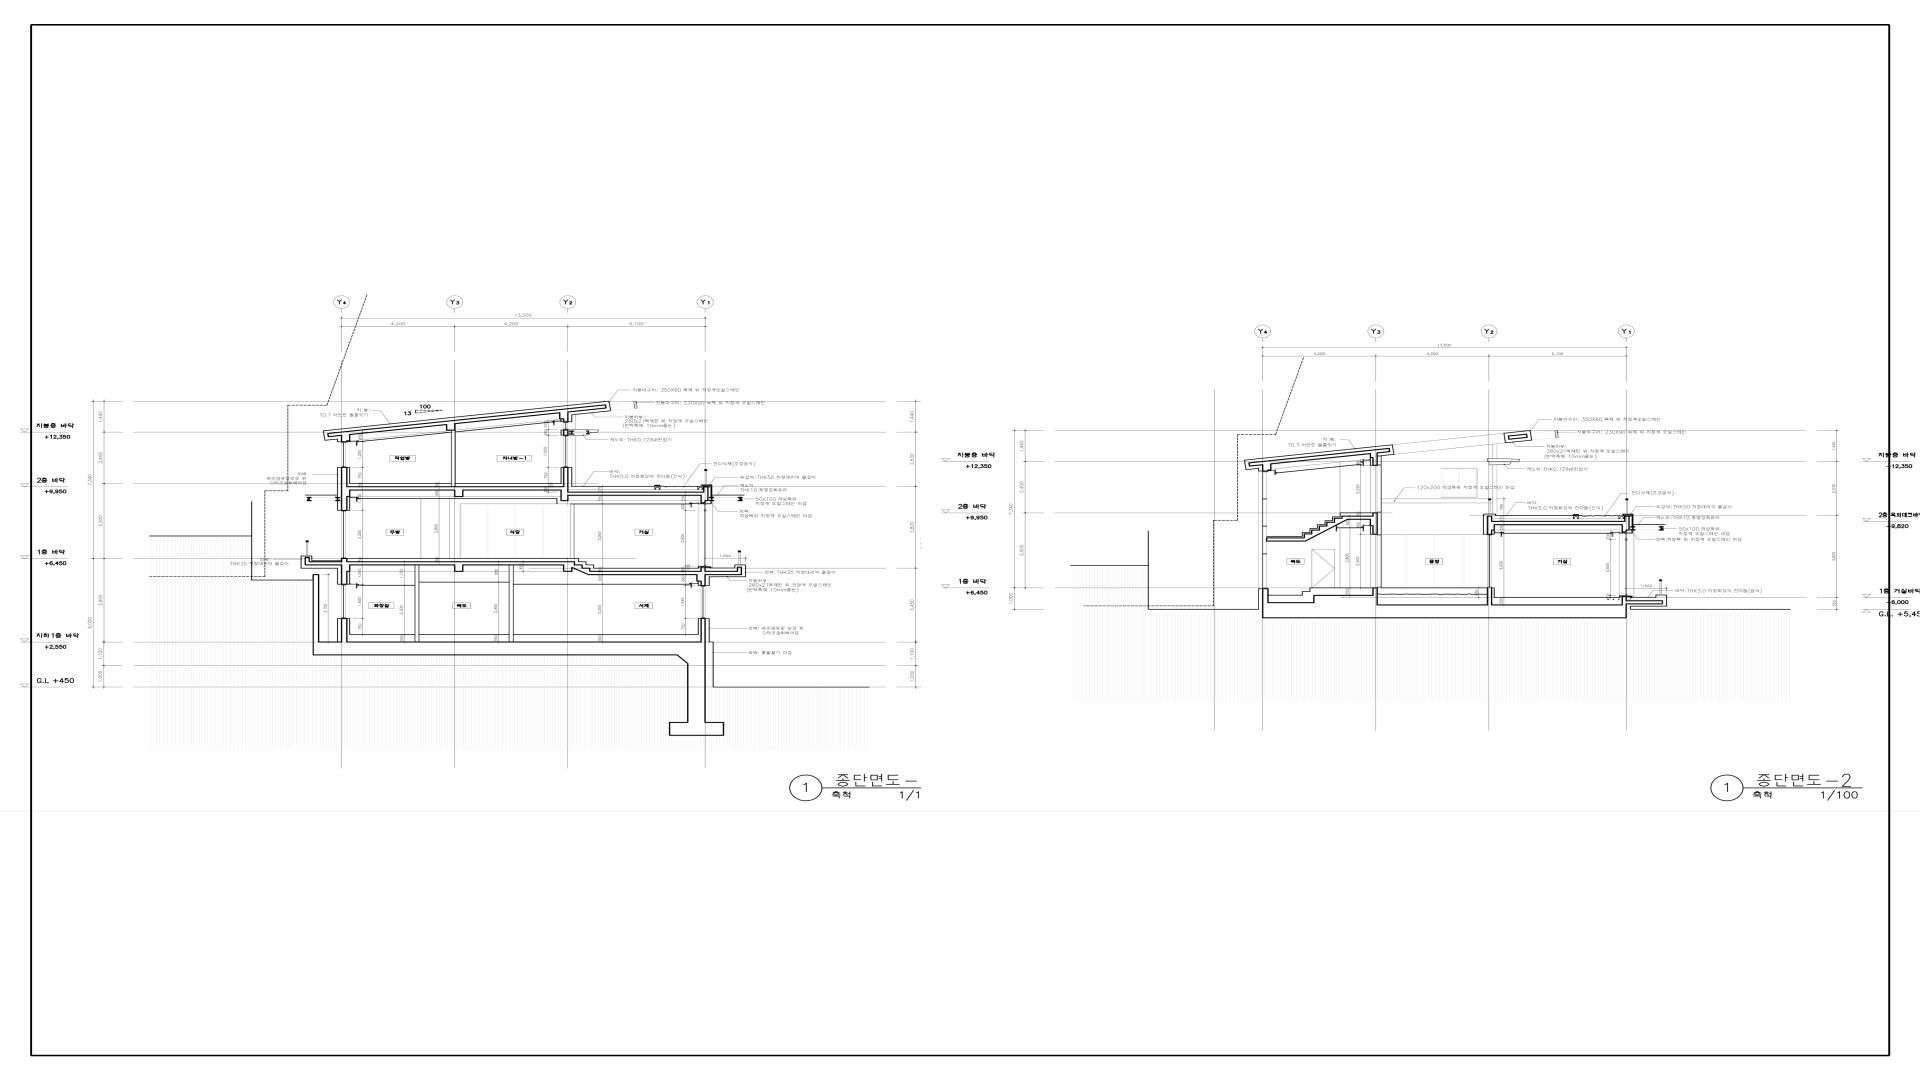door: (1312, 550, 1335, 588), (570, 504, 575, 558)
wall: (327, 405, 607, 438), (1262, 595, 1627, 618), (351, 467, 568, 491), (319, 642, 705, 655), (669, 655, 724, 736), (305, 556, 575, 572), (1249, 448, 1390, 467), (568, 487, 708, 496), (589, 567, 742, 575), (313, 575, 319, 655), (1495, 521, 1622, 525), (414, 566, 419, 642), (509, 566, 514, 642), (451, 431, 456, 487), (342, 467, 351, 491), (1627, 600, 1663, 605), (342, 491, 351, 510), (1486, 516, 1495, 535), (342, 566, 351, 584), (342, 618, 348, 642), (1370, 513, 1377, 535), (1267, 538, 1304, 542), (1622, 516, 1630, 533), (700, 618, 705, 642), (696, 575, 705, 585), (1262, 588, 1269, 603), (1487, 588, 1493, 605), (1348, 516, 1370, 520), (559, 413, 568, 422), (560, 491, 568, 501), (1370, 454, 1377, 465), (1262, 464, 1271, 472), (454, 491, 464, 497), (446, 425, 456, 431), (700, 496, 708, 504), (342, 435, 351, 442), (563, 430, 568, 435), (1373, 588, 1377, 595)
window: (1435, 535, 1462, 587), (1407, 535, 1433, 587), (1382, 535, 1406, 587), (1464, 535, 1487, 587), (1441, 468, 1477, 497), (1262, 472, 1267, 588), (1377, 513, 1382, 588), (1377, 455, 1382, 513), (1487, 535, 1493, 588), (342, 510, 345, 558), (700, 585, 705, 618), (1625, 533, 1627, 596), (563, 435, 568, 467), (342, 584, 345, 618), (342, 442, 345, 467), (704, 504, 705, 567), (563, 422, 568, 430)
